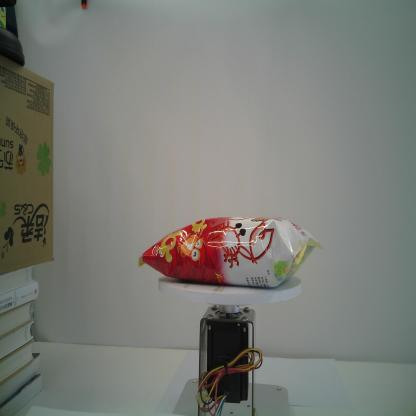Puffed Food: (134, 213, 322, 292)
